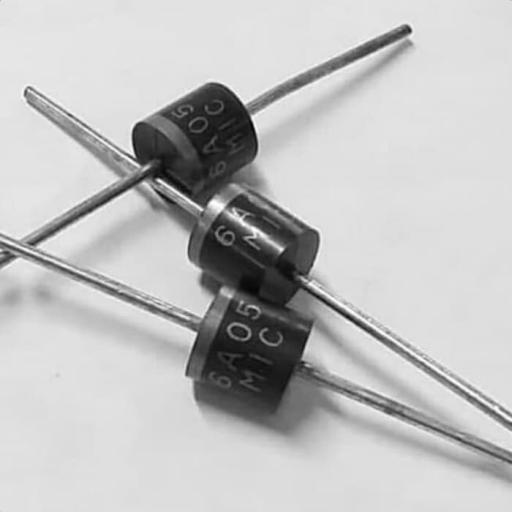DIODE: (0, 19, 511, 506), (154, 278, 354, 419), (178, 151, 358, 294), (124, 65, 287, 208)
